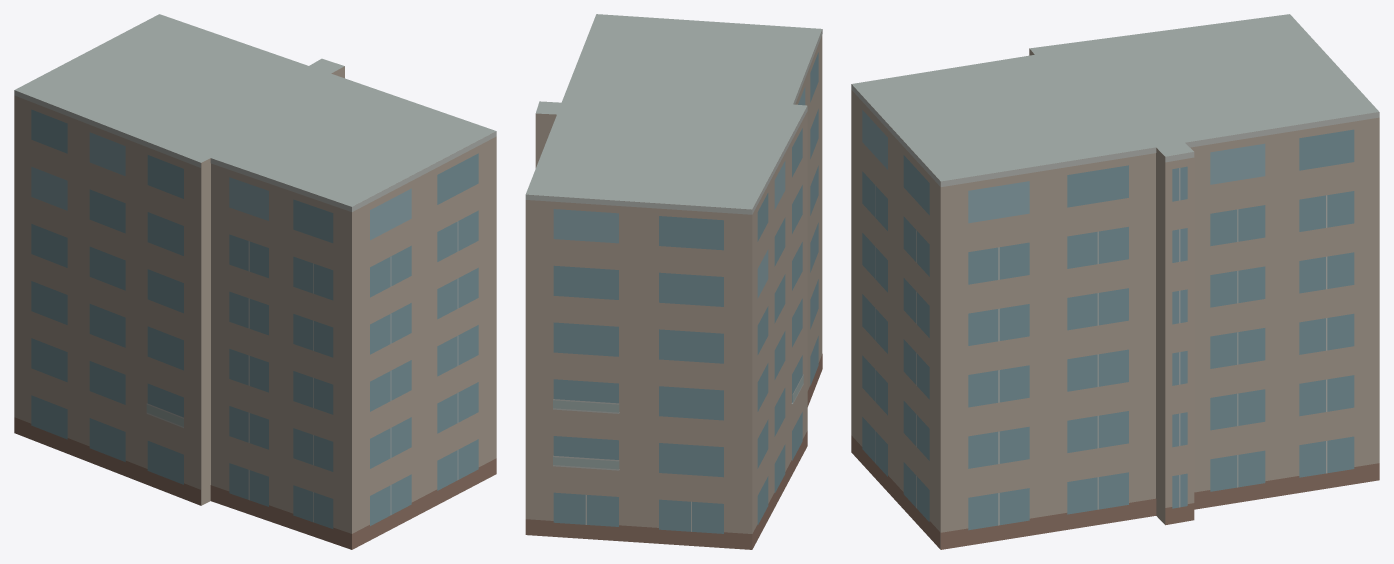
File: survey-upis-32960396.glb
3 renders of one model, left to right at view 1: azimuth 30°, elevation 25°; view 2: azimuth 150°, elevation 25°; view 3: azimuth 270°, elevation 25°, orthographic. The views are drawn at different scales.
Visible parts, largest first — view 1: survey-upis-32960396.tmp; view 2: survey-upis-32960396.tmp; view 3: survey-upis-32960396.tmp.
Part boxes in pixels (<box>): survey-upis-32960396.tmp: <box>14,14,496,549</box>; survey-upis-32960396.tmp: <box>525,14,822,549</box>; survey-upis-32960396.tmp: <box>851,14,1379,549</box>.
Size of the model in its own units: 15.42 by 15.8 by 20.54.
